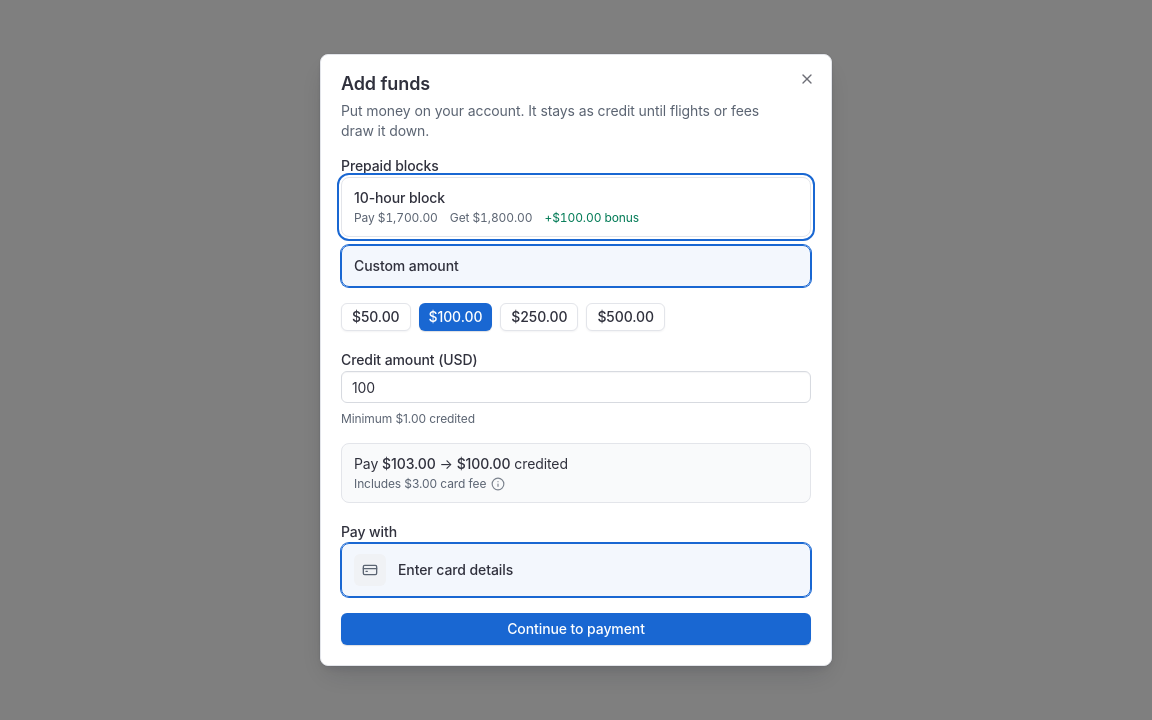
it: Add funds with prepaid blocks › says the card fee is included when there is one
Click the radio button with test id "add-funds-block-7": (576, 207) 341,177 -> 811,237
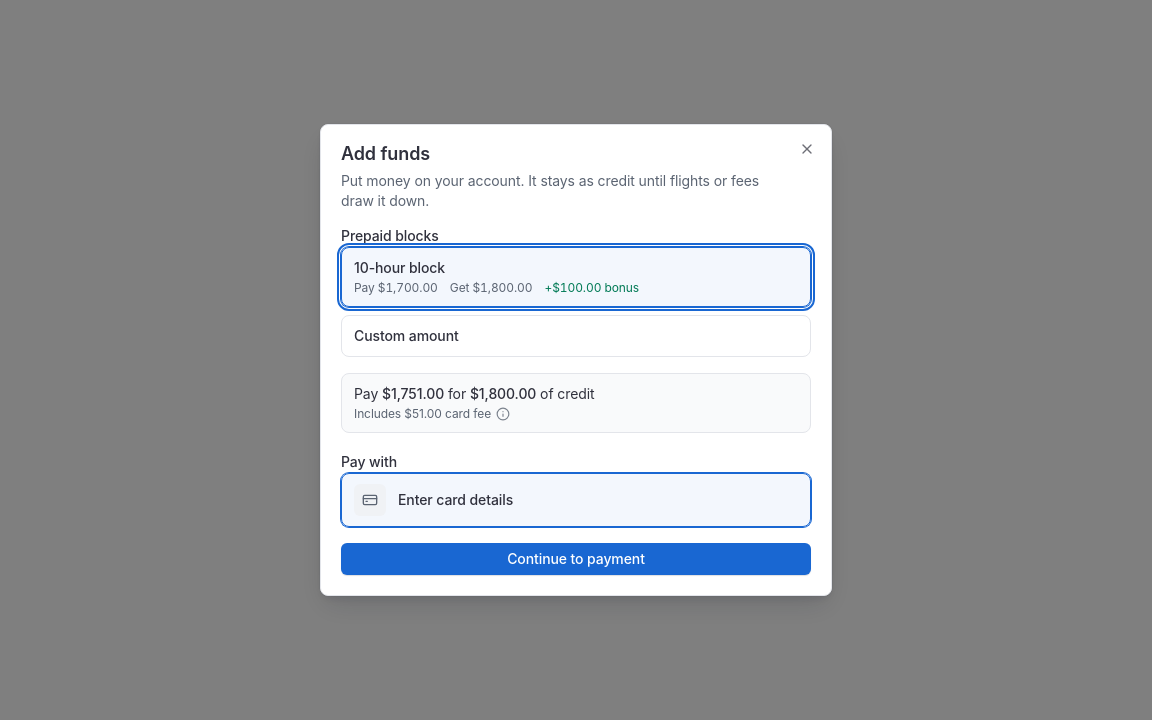
Expected: the element with test id "add-funds-summary" shows "Pay $1,751.00 for $1,800.00 of credit", 341,373 -> 811,433
